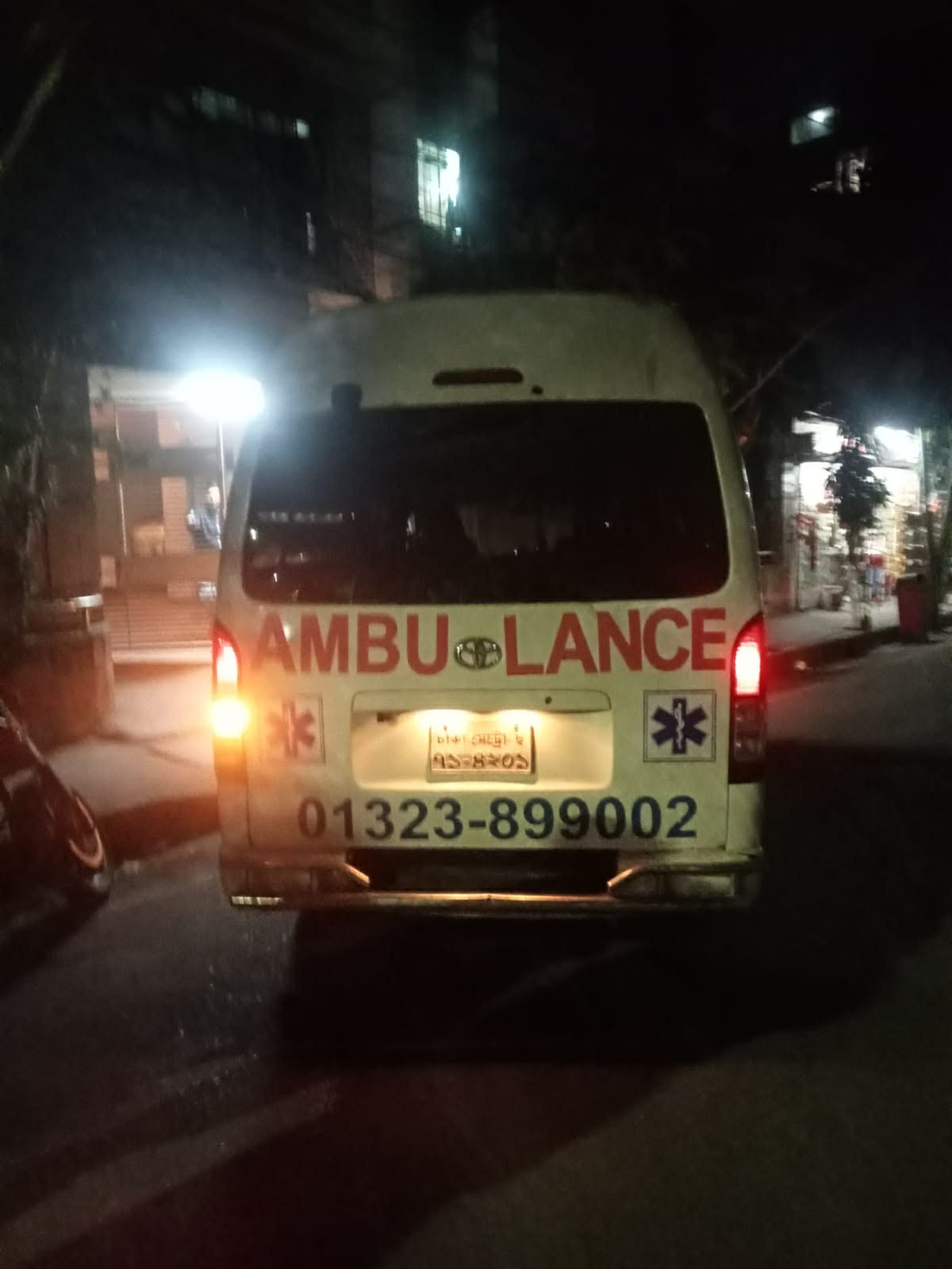Ambulance: (182, 263, 807, 983)
